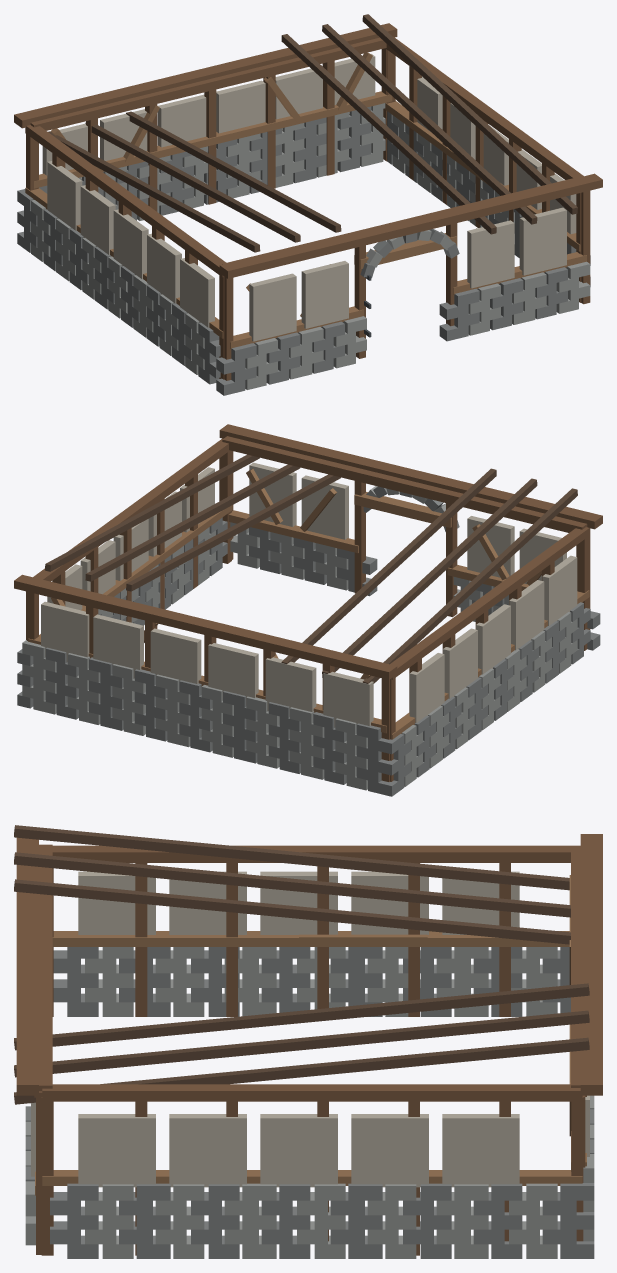
The model's file is workshopShell-6a471120a419.glb.
3 views of the same model, one above another, from view 1: azimuth 30°, elevation 25°; view 2: azimuth 150°, elevation 25°; view 3: azimuth 270°, elevation 25° (orthographic). The views are drawn at different scales.
Parts seen in each view (by area): view 1: front_eave, back_eave, rear_top, side_top_-1, fac_plaster_-4.0, fac_plaster_-2.45, fac_plaster_4.0, fac_plaster_2.45, side_top_1, rear_mid, rafter_2.3, rafter_3.5 (+35 smaller); view 2: back_eave, fac_top, front_eave, side_top_-1, rafter_-2.3, rafter_-3.5, side_top_1, rafter_-4.7, rear_panel_-2.45, rear_panel_0.95, rafter_3.5, rafter_4.7 (+32 smaller); view 3: side_top_1, rafter_-3.5, rafter_-2.3, rafter_-4.7, rafter_2.3, rafter_3.5, side_top_-1, rafter_4.7, back_eave, side_panel_1_-3.25, side_panel_1_-1.55, side_panel_1_-4.95 (+43 smaller).
Part boxes in pixels (x1,y1,x2,y2): front_eave: [219, 173, 602, 278]; back_eave: [14, 23, 397, 128]; rear_top: [30, 37, 386, 130]; side_top_-1: [25, 125, 226, 277]; fac_plaster_-4.0: [249, 273, 296, 341]; fac_plaster_-2.45: [301, 261, 348, 328]; fac_plaster_4.0: [519, 207, 566, 275]; fac_plaster_2.45: [467, 220, 514, 288]; side_top_1: [385, 36, 583, 179]; rear_mid: [34, 91, 392, 188]; rafter_2.3: [281, 34, 496, 234]; rafter_3.5: [322, 24, 537, 224]; back_eave: [14, 574, 397, 679]; fac_top: [222, 436, 587, 532]; front_eave: [219, 424, 602, 529]; side_top_-1: [390, 527, 589, 679]; rafter_-2.3: [281, 468, 496, 663]; rafter_-3.5: [322, 478, 537, 677]; side_top_1: [33, 438, 229, 581]; rafter_-4.7: [362, 488, 577, 683]; rear_panel_-2.45: [265, 657, 316, 715]; rear_panel_0.95: [150, 628, 201, 683]; rafter_3.5: [85, 464, 300, 581]; rafter_4.7: [45, 454, 259, 571]; side_top_1: [42, 1084, 582, 1101]; rafter_-3.5: [14, 852, 570, 917]; rafter_-2.3: [14, 879, 570, 944]; rafter_-4.7: [14, 825, 569, 890]; rafter_2.3: [14, 983, 589, 1050]; rafter_3.5: [14, 1010, 589, 1077]; side_top_-1: [52, 845, 570, 862]; rafter_4.7: [14, 1037, 589, 1104]; back_eave: [580, 834, 602, 1095]; side_panel_1_-3.25: [169, 1114, 246, 1187]; side_panel_1_-1.55: [78, 1114, 155, 1187]; side_panel_1_-4.95: [260, 1114, 337, 1187].
Size of the model in its own units: 11.12 by 4.13 by 11.01.
